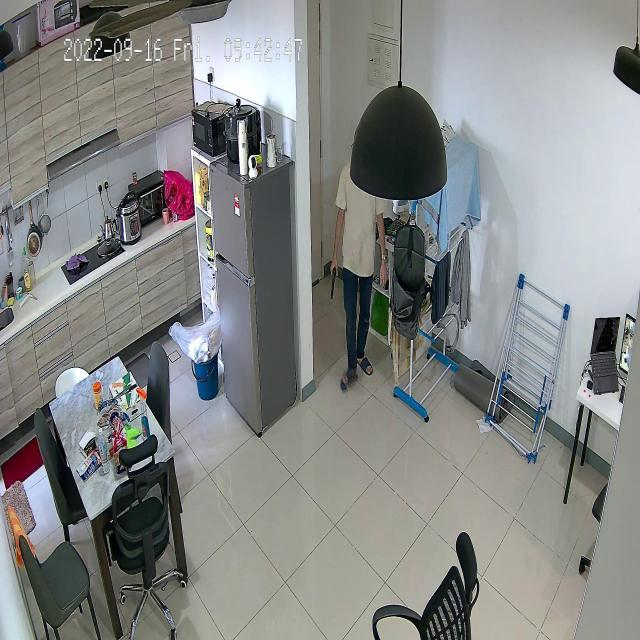Gun: (319, 260, 343, 314)
